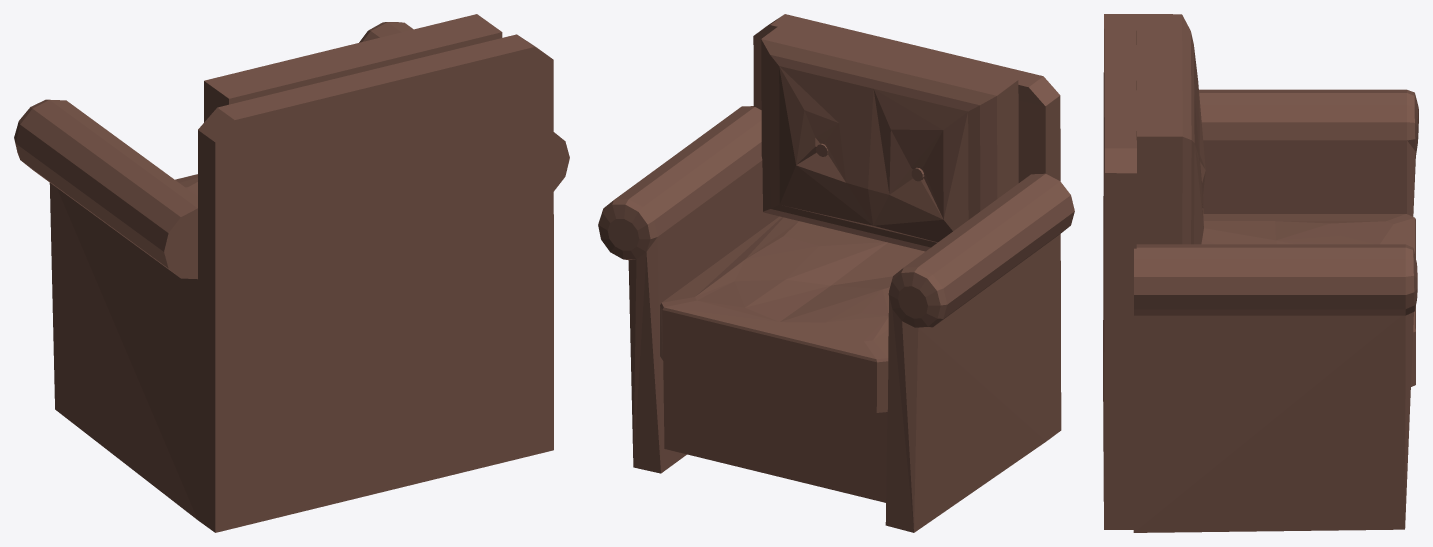
File: sofa.obj
3 views of the same model, side by side, from view 1: azimuth 30°, elevation 25°; view 2: azimuth 150°, elevation 25°; view 3: azimuth 270°, elevation 25° (orthographic). The views are drawn at different scales.
Parts seen in each view (by area): view 1: group1757424385; view 2: group1757424385; view 3: group1757424385.
Part boxes in pixels (x1=…): group1757424385: x1=14, y1=14, x2=569, y2=532; group1757424385: x1=598, y1=14, x2=1074, y2=532; group1757424385: x1=1103, y1=14, x2=1418, y2=532.
Bounding box in the file's own units: 1.46 × 1.43 × 1.07.
